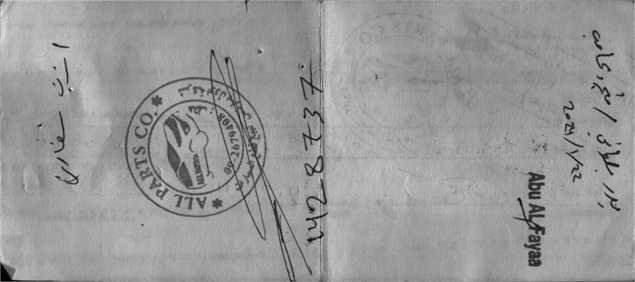stamp: (123, 77, 270, 218)
